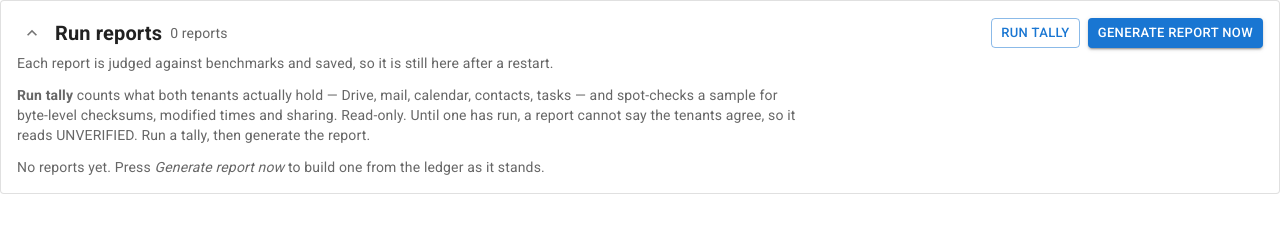
Test case: RunReports › says what went wrong when generating fails, and can be tried again
Expected: the element with test id "no-reports" is shown, [17,159,545,175]
Click the button "Generate report now" at (1175, 33), box [1088,18,1263,48]
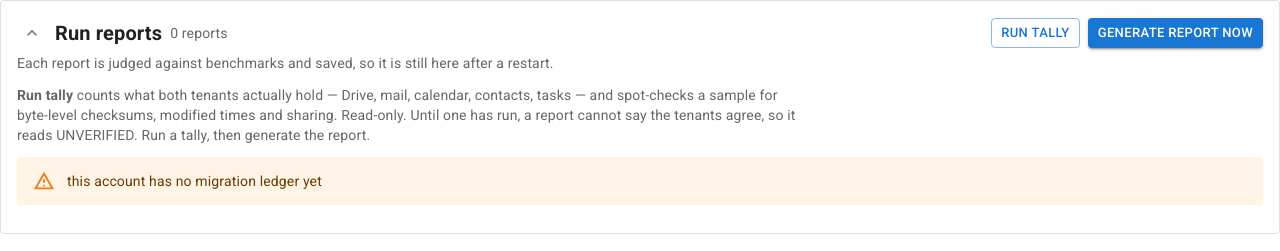
Now the text "this account has no migration ledger yet" is shown, box [67,173,322,189]
